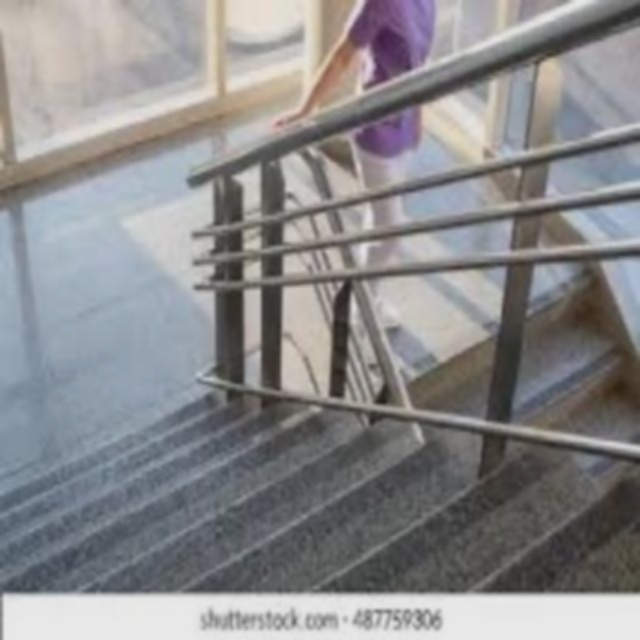stair: (0, 380, 635, 583)
